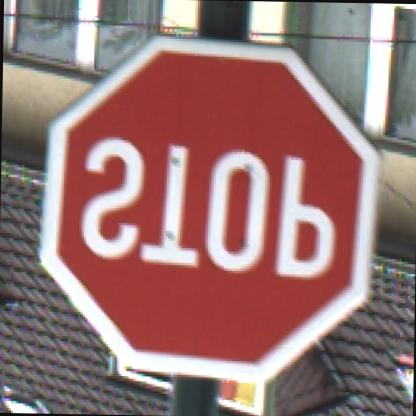stop: (12, 34, 407, 382)
